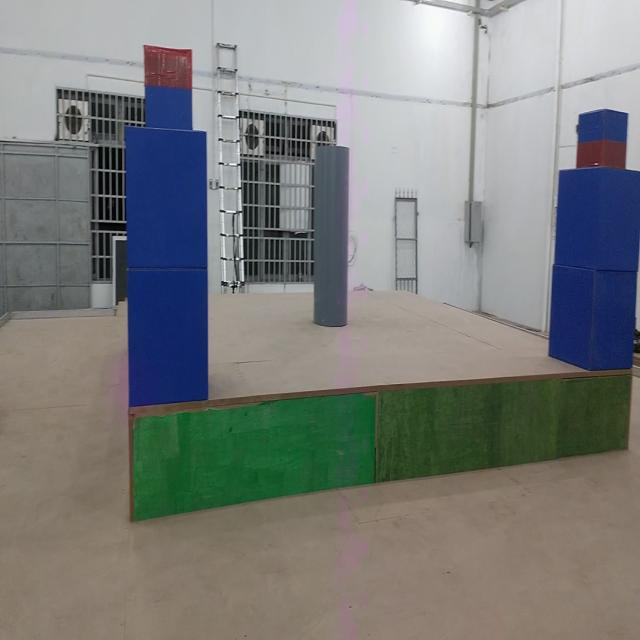earth_block: (125, 268, 210, 407), (125, 128, 208, 268), (547, 270, 640, 371), (553, 168, 640, 269)
sky_block: (141, 43, 195, 129), (575, 109, 631, 168)
